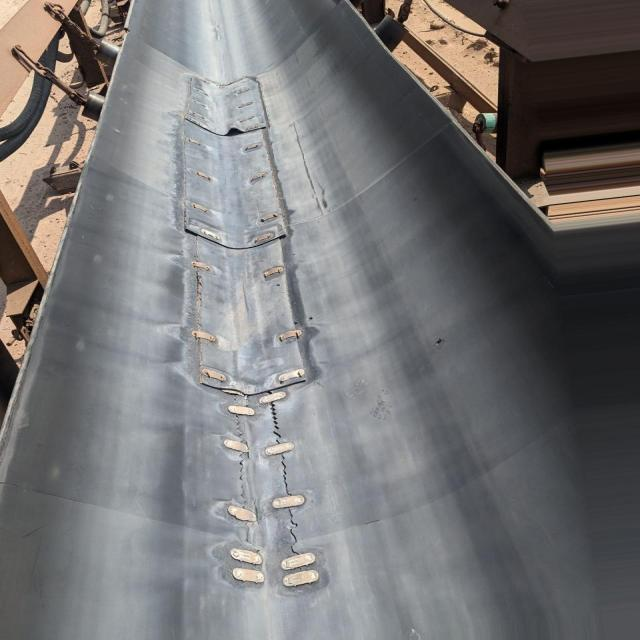patch work: (184, 72, 324, 593)
